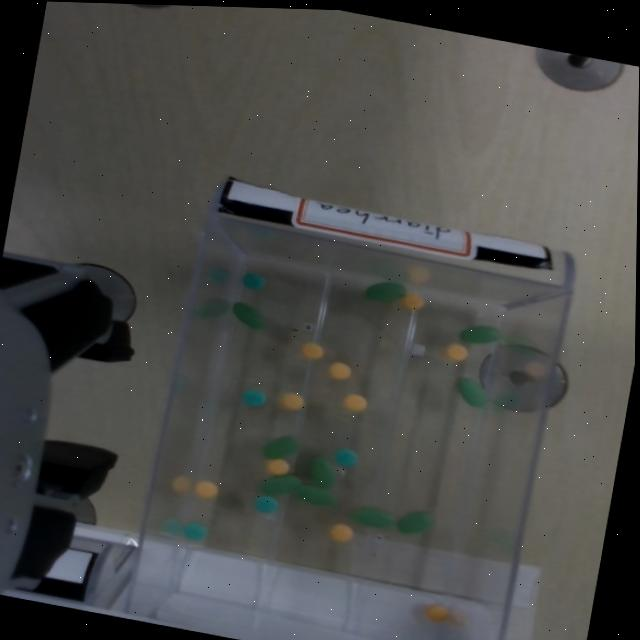famodine: (333, 447, 360, 469), (241, 387, 268, 408), (254, 493, 280, 514), (184, 521, 210, 542), (182, 522, 209, 540), (244, 270, 267, 291), (335, 447, 359, 466), (256, 494, 279, 512), (243, 389, 267, 405), (244, 272, 265, 289)
otillen_tab: (364, 276, 410, 306), (353, 504, 400, 531), (396, 506, 435, 538), (262, 469, 301, 501), (262, 431, 302, 462), (455, 375, 492, 408), (460, 320, 503, 348), (294, 482, 339, 508), (231, 300, 269, 330), (307, 455, 339, 490), (458, 377, 488, 407), (233, 301, 265, 328), (354, 507, 397, 527), (397, 510, 434, 533), (296, 484, 336, 505), (310, 456, 336, 487), (264, 435, 300, 457), (366, 281, 407, 300), (461, 324, 502, 343), (263, 474, 300, 495)
samsung_octylonium_tab: (342, 392, 370, 413), (425, 602, 453, 623), (300, 339, 326, 361), (328, 520, 354, 542), (195, 478, 221, 500), (280, 390, 305, 411), (402, 291, 426, 312), (329, 360, 353, 381), (425, 603, 452, 621), (266, 455, 290, 475), (194, 479, 219, 498), (446, 343, 470, 362), (330, 522, 354, 541), (344, 393, 368, 411), (329, 361, 353, 379), (301, 341, 325, 359), (281, 392, 305, 410), (401, 292, 426, 309), (445, 343, 469, 360), (267, 458, 291, 474)
